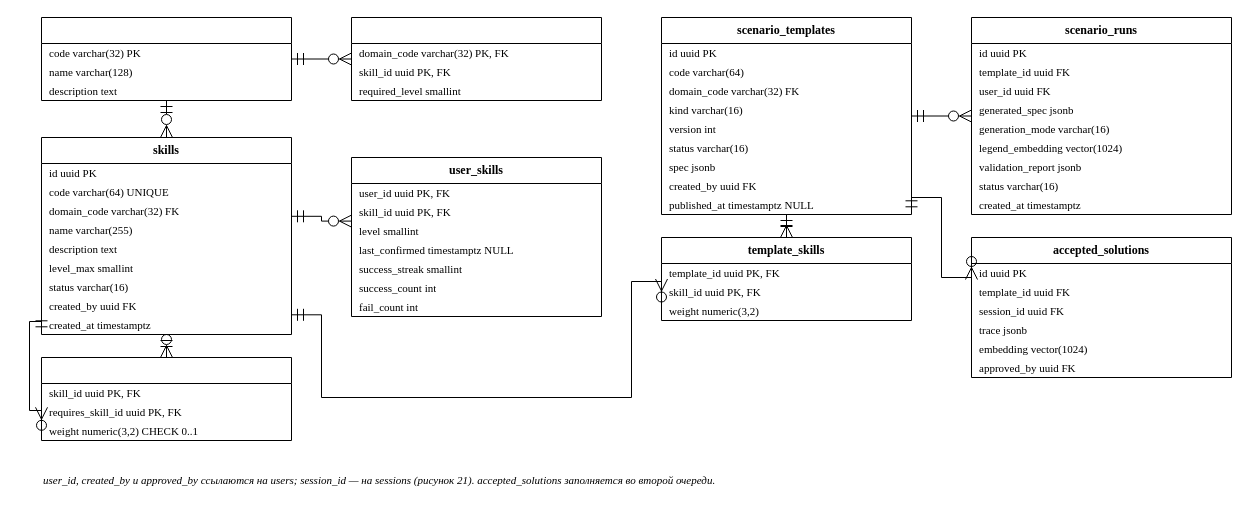
Image size: 1249x509. Some labels were removed from this diagram. Each missing label, with the box of its shape:
domains: (40, 16, 292, 100)
skill_requires: (40, 356, 292, 440)
track_targets: (350, 16, 602, 100)
